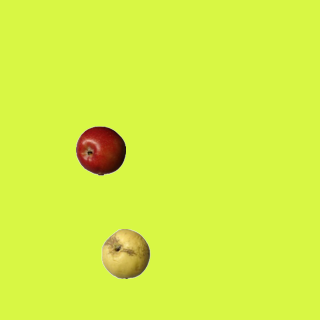Apple Braeburn: (75, 125, 125, 175)
Apple Golden 1: (100, 228, 150, 278)
